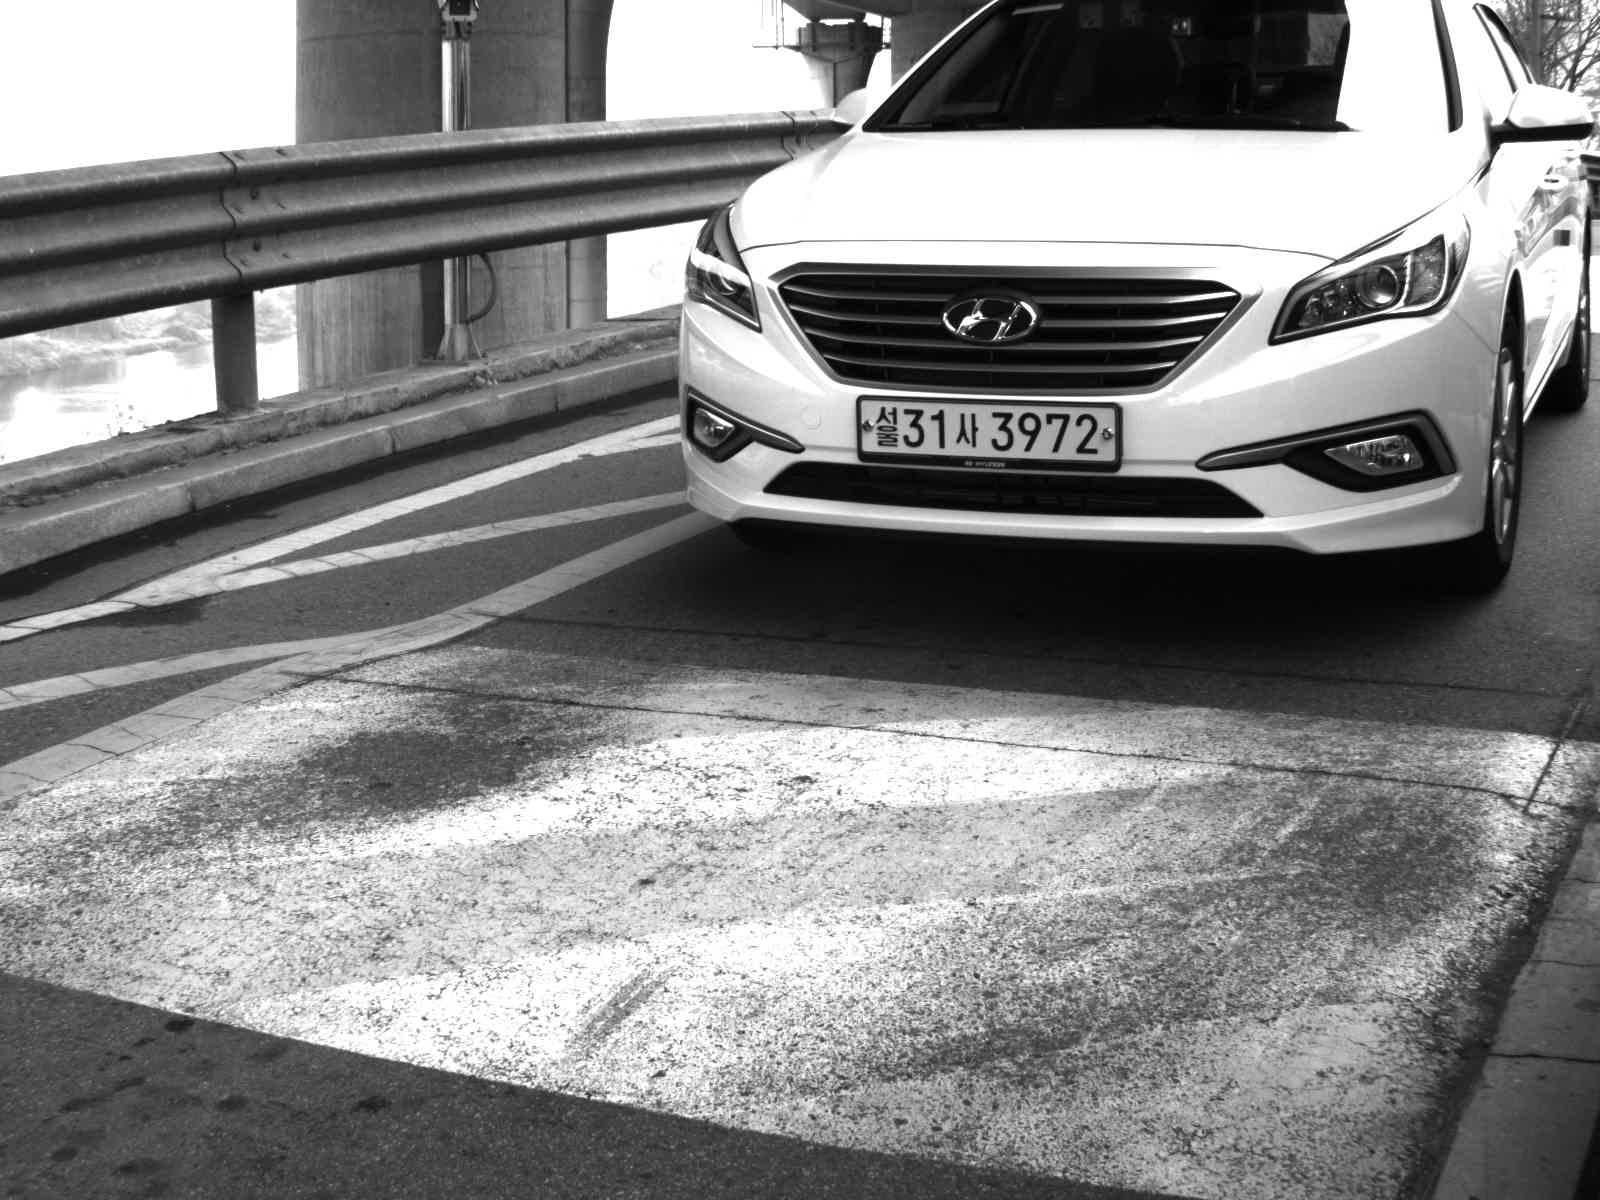P4_서울31사3972: (853, 396, 1122, 473)
사: (951, 409, 984, 456)
서울: (866, 402, 906, 454)
